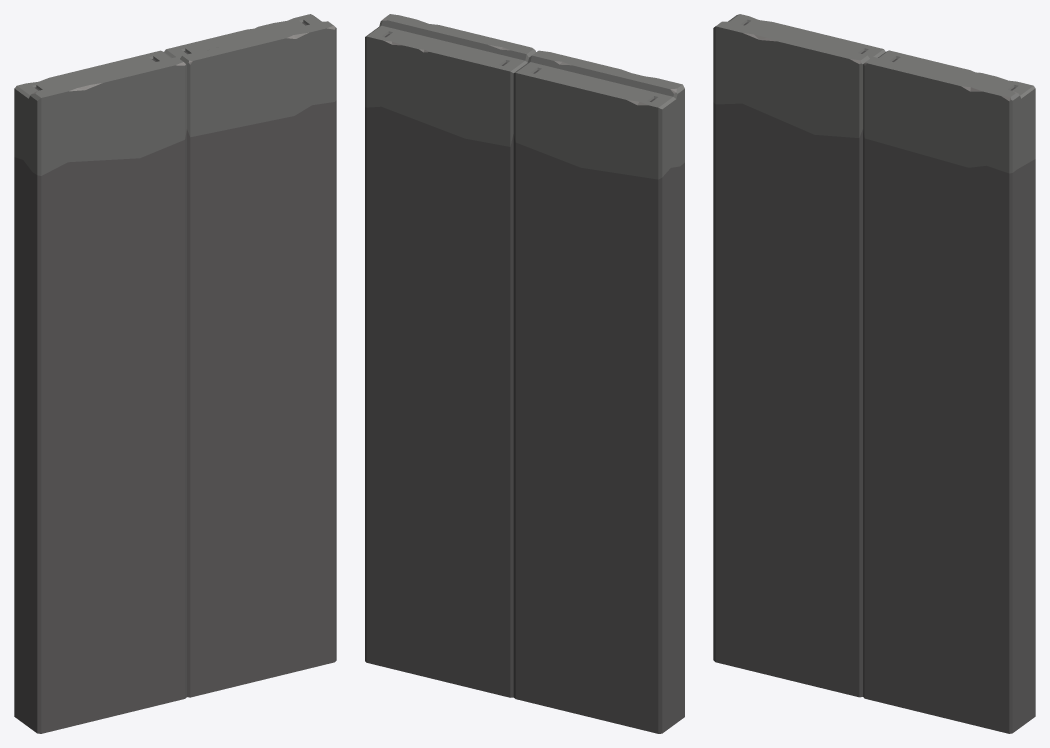
The model's file is SM_Env_PortEdge_01.fbx.
The picture shows the model from 3 angles, left to right: view 1: azimuth 30°, elevation 25°; view 2: azimuth 150°, elevation 25°; view 3: azimuth 330°, elevation 25°; orthographic projection.
Visible parts, largest first — view 1: SM_Env_PortEdge_01; view 2: SM_Env_PortEdge_01; view 3: SM_Env_PortEdge_01.
Boxes of the visible parts, box(x1,y1,x2,y2) form: SM_Env_PortEdge_01: box(14, 14, 336, 733); SM_Env_PortEdge_01: box(365, 14, 684, 733); SM_Env_PortEdge_01: box(713, 14, 1035, 733).
Bounding box in the file's own units: 1000 × 2032 × 142.
